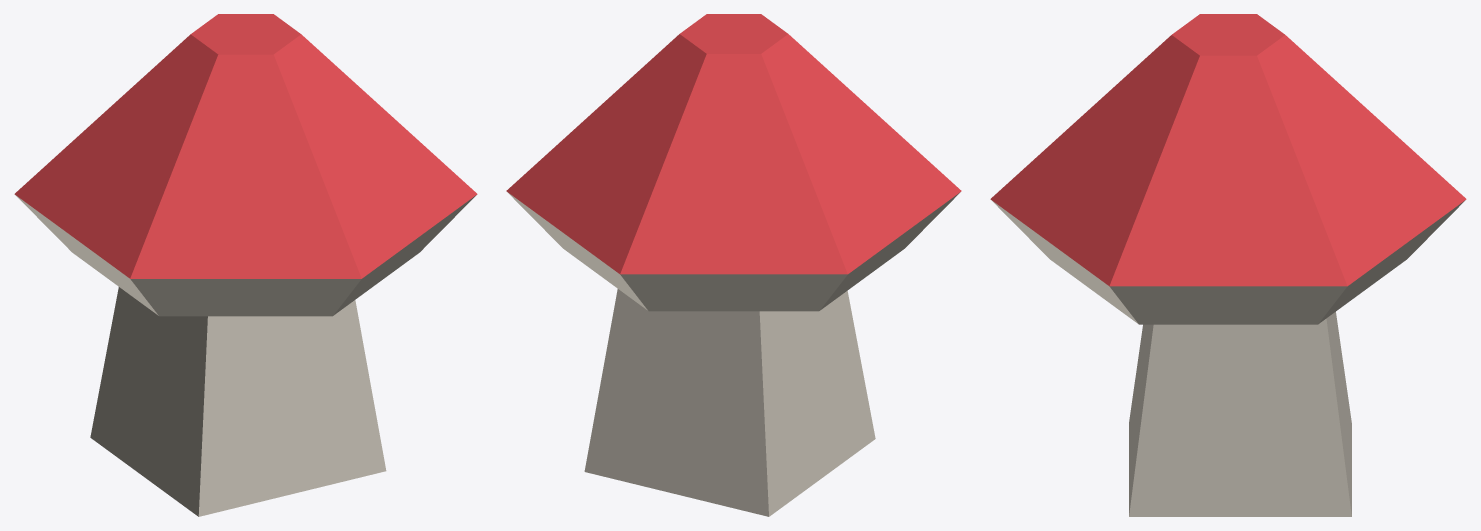
File: mushroom_red.glb
The picture shows the model from 3 angles, left to right: view 1: azimuth 30°, elevation 25°; view 2: azimuth 150°, elevation 25°; view 3: azimuth 270°, elevation 25°; orthographic projection. The views are drawn at different scales.
Visible parts, largest first — view 1: mushroom_red; view 2: mushroom_red; view 3: mushroom_red.
Boxes of the visible parts, box(x1,y1,x2,y2) form: mushroom_red: box(14, 14, 477, 516); mushroom_red: box(506, 14, 961, 516); mushroom_red: box(990, 14, 1466, 516).
Size of the model in its own units: 0.174 by 0.2028 by 0.2009.
